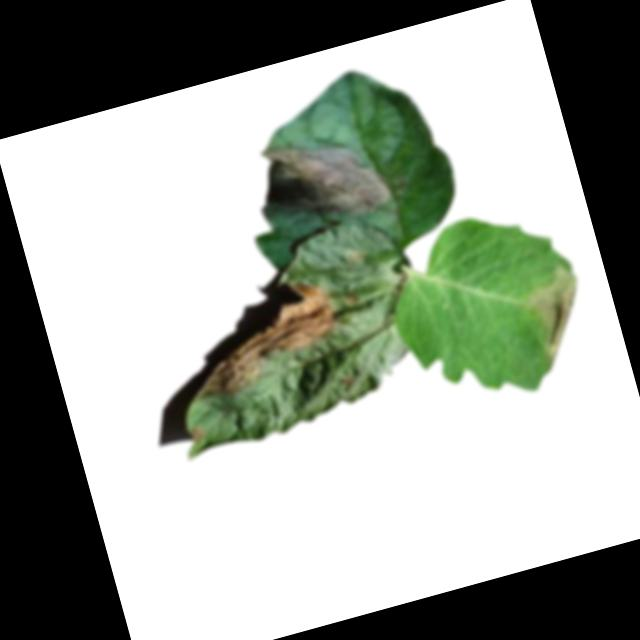Late_blight: (176, 270, 351, 404), (247, 119, 401, 241), (516, 260, 600, 364), (189, 422, 207, 440)
